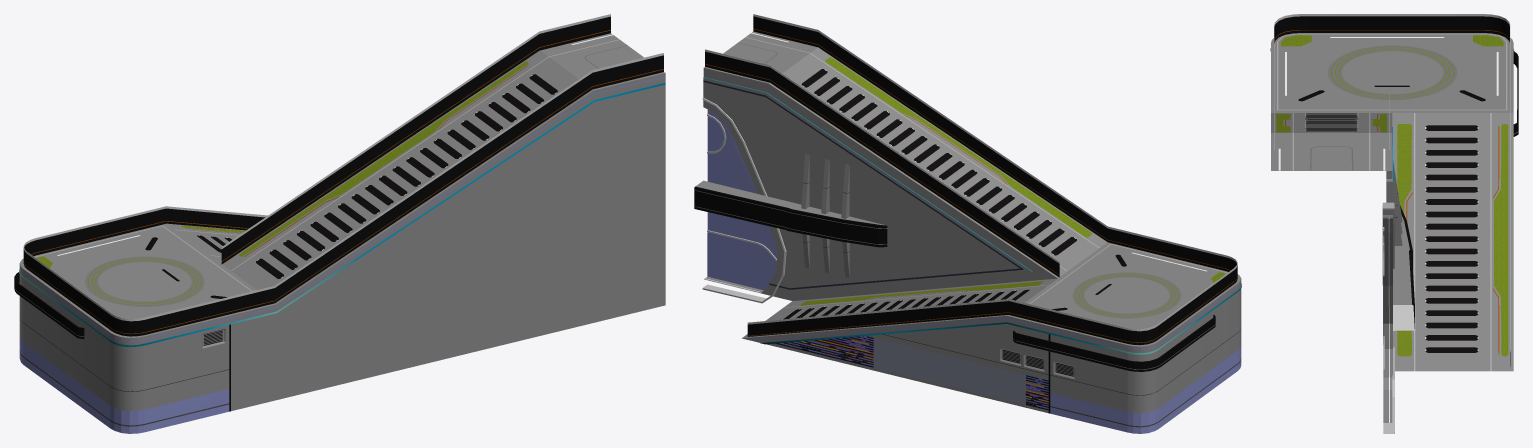
Rendered from W_M_maze_BelvedereStair_B_L1.fbx.
3 views of the same model, side by side, from view 1: azimuth 30°, elevation 25°; view 2: azimuth 150°, elevation 25°; view 3: azimuth 270°, elevation 25° (orthographic). The views are drawn at different scales.
Parts seen in each view (by area): view 1: W_M_maze_BelvedereStair_B_L1; view 2: W_M_maze_BelvedereStair_B_L1; view 3: W_M_maze_BelvedereStair_B_L1.
Boxes of the visible parts, x1,y1,x2,y2 form: W_M_maze_BelvedereStair_B_L1: (14, 14, 665, 433); W_M_maze_BelvedereStair_B_L1: (694, 14, 1241, 433); W_M_maze_BelvedereStair_B_L1: (1270, 14, 1518, 433).
Size of the model in its own units: 32.87 by 11.92 by 15.02.
